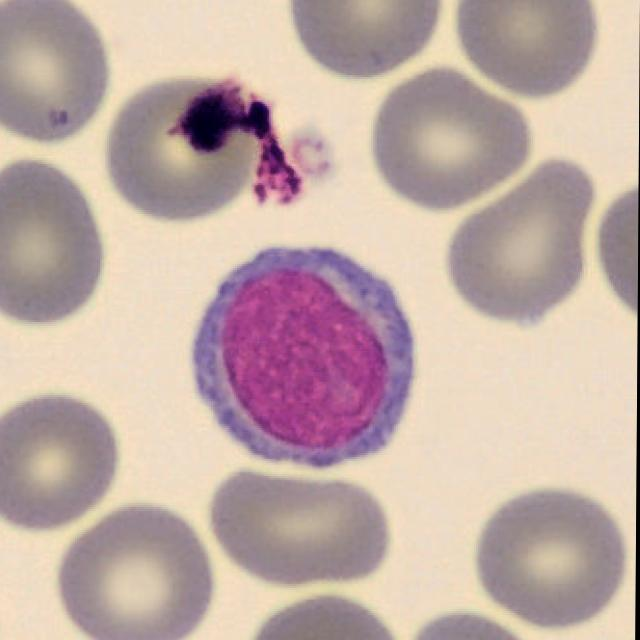Linfocito: (189, 245, 418, 472)
